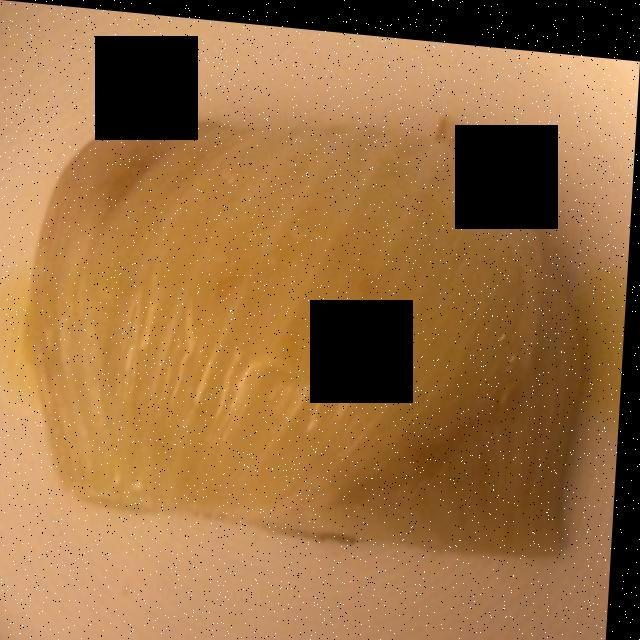cake: (37, 116, 580, 542)
